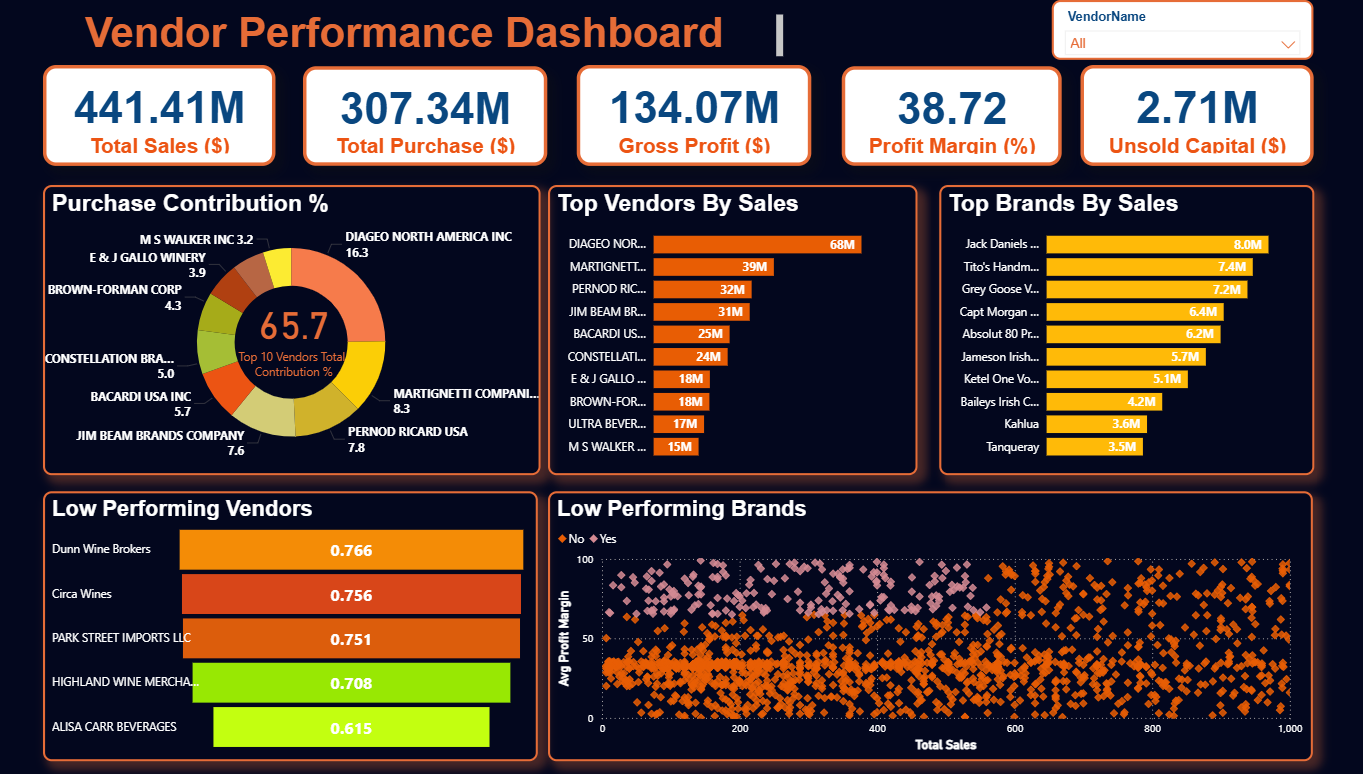

The page's visual inventory and layout, read from the dashboard file:
{"tool":"powerbi","page":{"name":"Page 1","canvas":[1500,900],"ordinal":0},"visuals":[{"type":"card","fields":{"Values":["vendor_sales_summary.TotalPurchaseDollars"]},"box":[315.8,82.4,280.9,114.6],"z":0},{"type":"card","fields":{"Values":["vendor_sales_summary.TotalSalesDollars"]},"box":[17,80.4,267.3,115.9],"z":1000},{"type":"card","fields":{"Values":["vendor_sales_summary.GrossProfit"]},"box":[630.2,81,269.7,116],"z":2000},{"type":"card","fields":{"Values":["vendor_sales_summary.ProfitMargin"]},"box":[934.8,82.4,252.9,114.6],"z":3000},{"type":"card","fields":{"Values":["vendor_sales_summary.UnsoldCapital"]},"box":[1210.1,81,268.3,116],"z":4000},{"type":"textbox","box":[0,0,873.1,75.7],"z":5000},{"type":"donutChart","title":"Purchase Contribution % ","fields":{"Category":["PurchaseContribution.VendorName"],"Y":["PurchaseContribution.PurchaseContribution%"]},"box":[16.8,218.6,571.7,333.2],"z":6000},{"type":"card","fields":{"Values":["PurchaseContribution.PurchaseContribution%"]},"box":[211.8,266.7,188.2,233.3],"z":7000},{"type":"barChart","title":"Top Vendors By Sales","fields":{"Category":["vendor_sales_summary.VendorName"],"Y":["vendor_sales_summary.TotalSalesDollars"]},"box":[597.7,218.6,424.9,333.2],"z":8000},{"type":"barChart","title":"Top Brands By Sales","fields":{"Category":["vendor_sales_summary.Description"],"Y":["vendor_sales_summary.TotalSalesDollars"]},"box":[1047.1,218.6,431,333.2],"z":9000},{"type":"funnel","title":"Low Performing Vendors","fields":{"Category":["LowTurnoverVendor.VendorName"],"Y":["LowTurnoverVendor.AvgStockTurnOver"]},"box":[17,570.2,568.7,310.6],"z":10000},{"type":"scatterChart","title":"Low Performing Brands","fields":{"X":["BrandPerformance.TotalSales"],"Y":["BrandPerformance.AvgProfitMargin"],"Series":["BrandPerformance.TargetBrand"],"Category":["BrandPerformance.Description"]},"box":[598.1,570.2,879.3,310.6],"z":11000},{"type":"slicer","fields":{"Values":["vendor_sales_summary.VendorName"]},"box":[1177,6.1,301.1,68.8],"z":12000}]}

Visuals, with their boxes in screenshot pixels (x1, y1, x2, y2):
card - vendor_sales_summary.TotalPurchaseDollars: bbox=(299, 62, 546, 163)
card - vendor_sales_summary.TotalSalesDollars: bbox=(36, 60, 271, 162)
card - vendor_sales_summary.GrossProfit: bbox=(575, 61, 812, 163)
card - vendor_sales_summary.ProfitMargin: bbox=(843, 62, 1065, 163)
card - vendor_sales_summary.UnsoldCapital: bbox=(1085, 61, 1321, 163)
textbox: bbox=(21, 0, 789, 56)
"Purchase Contribution % " donutChart: bbox=(36, 182, 539, 474)
card - PurchaseContribution.PurchaseContribution%: bbox=(207, 224, 373, 429)
"Top Vendors By Sales" barChart: bbox=(547, 182, 920, 474)
"Top Brands By Sales" barChart: bbox=(942, 182, 1321, 474)
"Low Performing Vendors" funnel: bbox=(36, 491, 536, 764)
"Low Performing Brands" scatterChart: bbox=(547, 491, 1320, 764)
slicer - vendor_sales_summary.VendorName: bbox=(1056, 0, 1321, 55)
